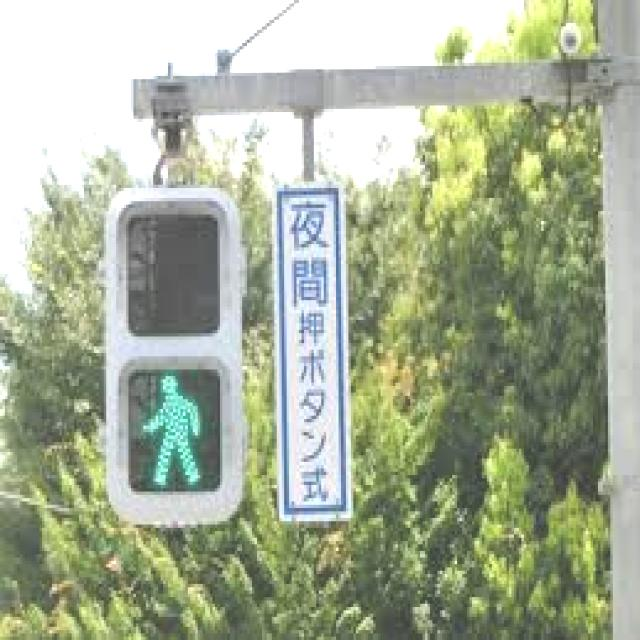trafficlight: (96, 185, 247, 518)
